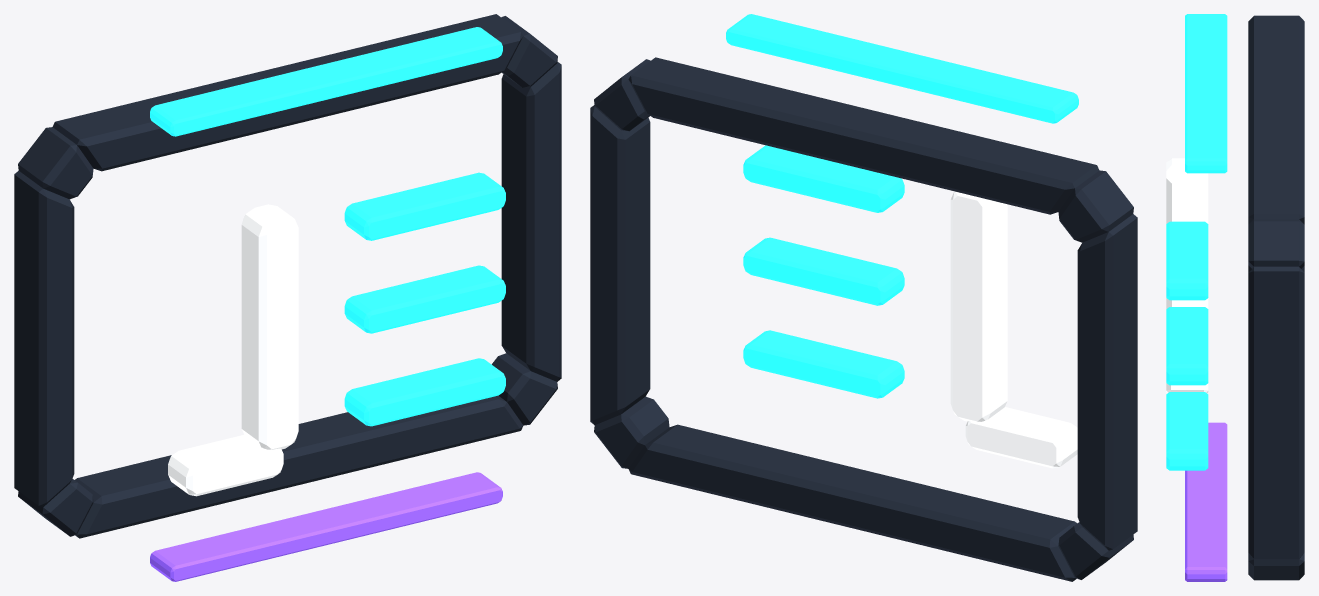
Rendered from tech-javascript.glb.
3 renders of one model, left to right at view 1: azimuth 30°, elevation 25°; view 2: azimuth 150°, elevation 25°; view 3: azimuth 270°, elevation 25°, orthographic. The views are drawn at different scales.
Parts seen in each view (by area): view 1: tech-javascript_SystemMaterial, tech-javascript_SignalMaterial, tech-javascript_LabelMaterial, tech-javascript_AccentMaterial; view 2: tech-javascript_SystemMaterial, tech-javascript_SignalMaterial, tech-javascript_LabelMaterial; view 3: tech-javascript_SystemMaterial, tech-javascript_SignalMaterial, tech-javascript_AccentMaterial, tech-javascript_LabelMaterial.
Part boxes in pixels (left/top/right/bottom): tech-javascript_SystemMaterial: left=14, top=14, right=561, bottom=538; tech-javascript_SignalMaterial: left=150, top=27, right=505, bottom=426; tech-javascript_LabelMaterial: left=168, top=204, right=298, bottom=496; tech-javascript_AccentMaterial: left=150, top=472, right=502, bottom=581; tech-javascript_SystemMaterial: left=590, top=57, right=1137, bottom=581; tech-javascript_SignalMaterial: left=726, top=14, right=1078, bottom=398; tech-javascript_LabelMaterial: left=950, top=191, right=1077, bottom=468; tech-javascript_SystemMaterial: left=1248, top=15, right=1304, bottom=580; tech-javascript_SignalMaterial: left=1166, top=14, right=1227, bottom=470; tech-javascript_AccentMaterial: left=1185, top=422, right=1227, bottom=581; tech-javascript_LabelMaterial: left=1166, top=158, right=1208, bottom=393.
Size of the model in its own units: 1.18 by 0.995 by 0.295.
